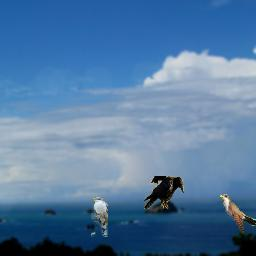Crow: (144, 176, 184, 209)
Cuckoo: (220, 194, 256, 234), (91, 197, 108, 237)
